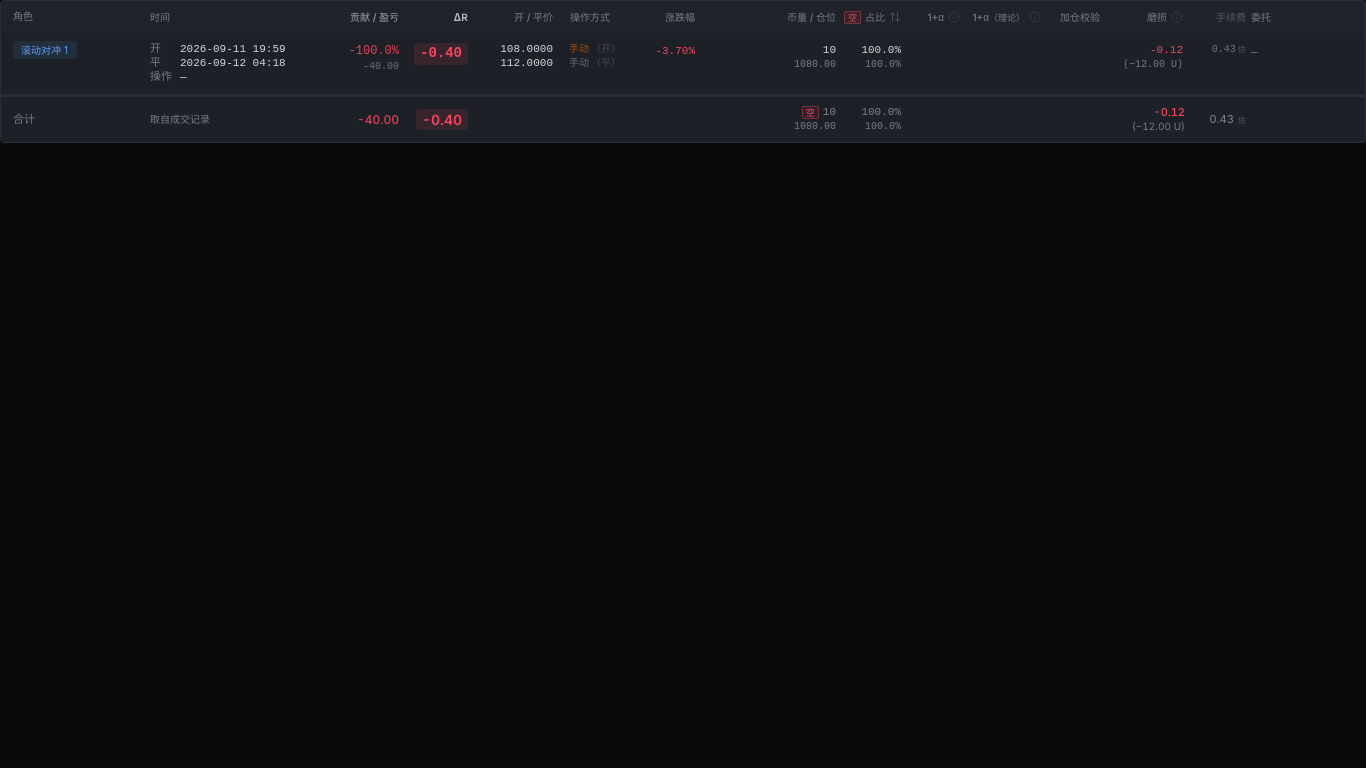
Test: 【用户要求】Legs 表的「磨损」列：与盈亏比同一单位，点开看计算过程 › 点开：与加仓校验同一种框，顶部读数，下面逐项写公式与代入的每一个数，再 ÷ L₀
Click the button with test id "leg-execution-wear-lock" at (1151, 57), box [1117, 43, 1185, 72]
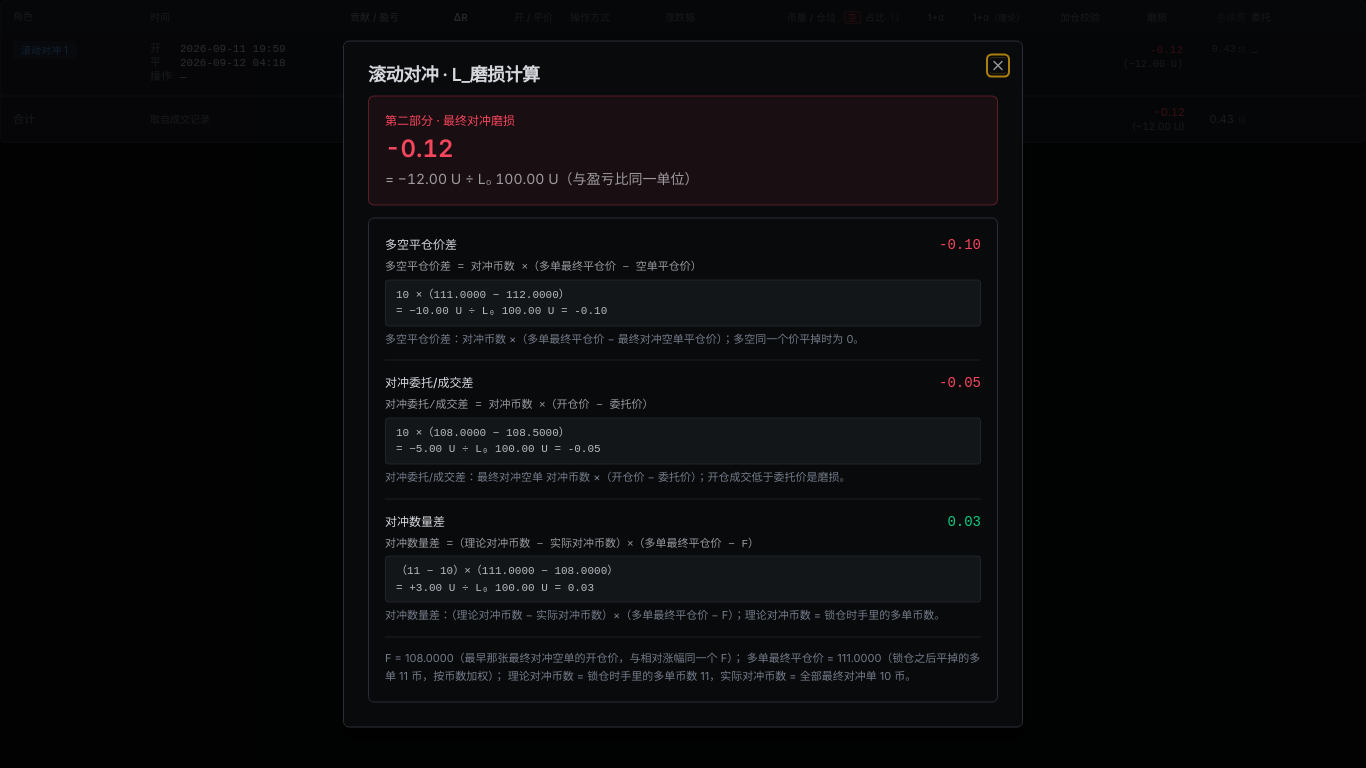
expect the heading "滚动对冲 · L_磨损计算" is shown: met, box [368, 64, 540, 85]
expect the text with test id "leg-wear-detail-r" reads "-0.12": met, box [385, 134, 454, 163]
expect the text with test id "leg-wear-detail-usd" shows "= −12.00 U ÷ L₀ 100.00 U": met, box [385, 170, 699, 187]
